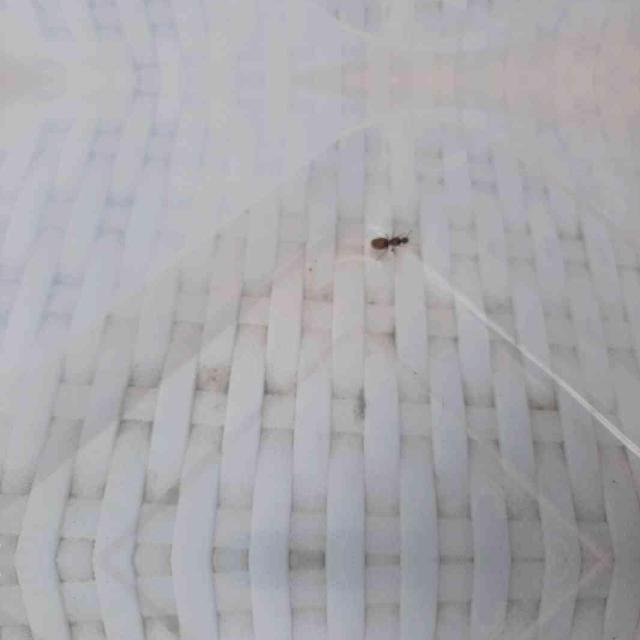Lasius: (368, 218, 414, 258)
